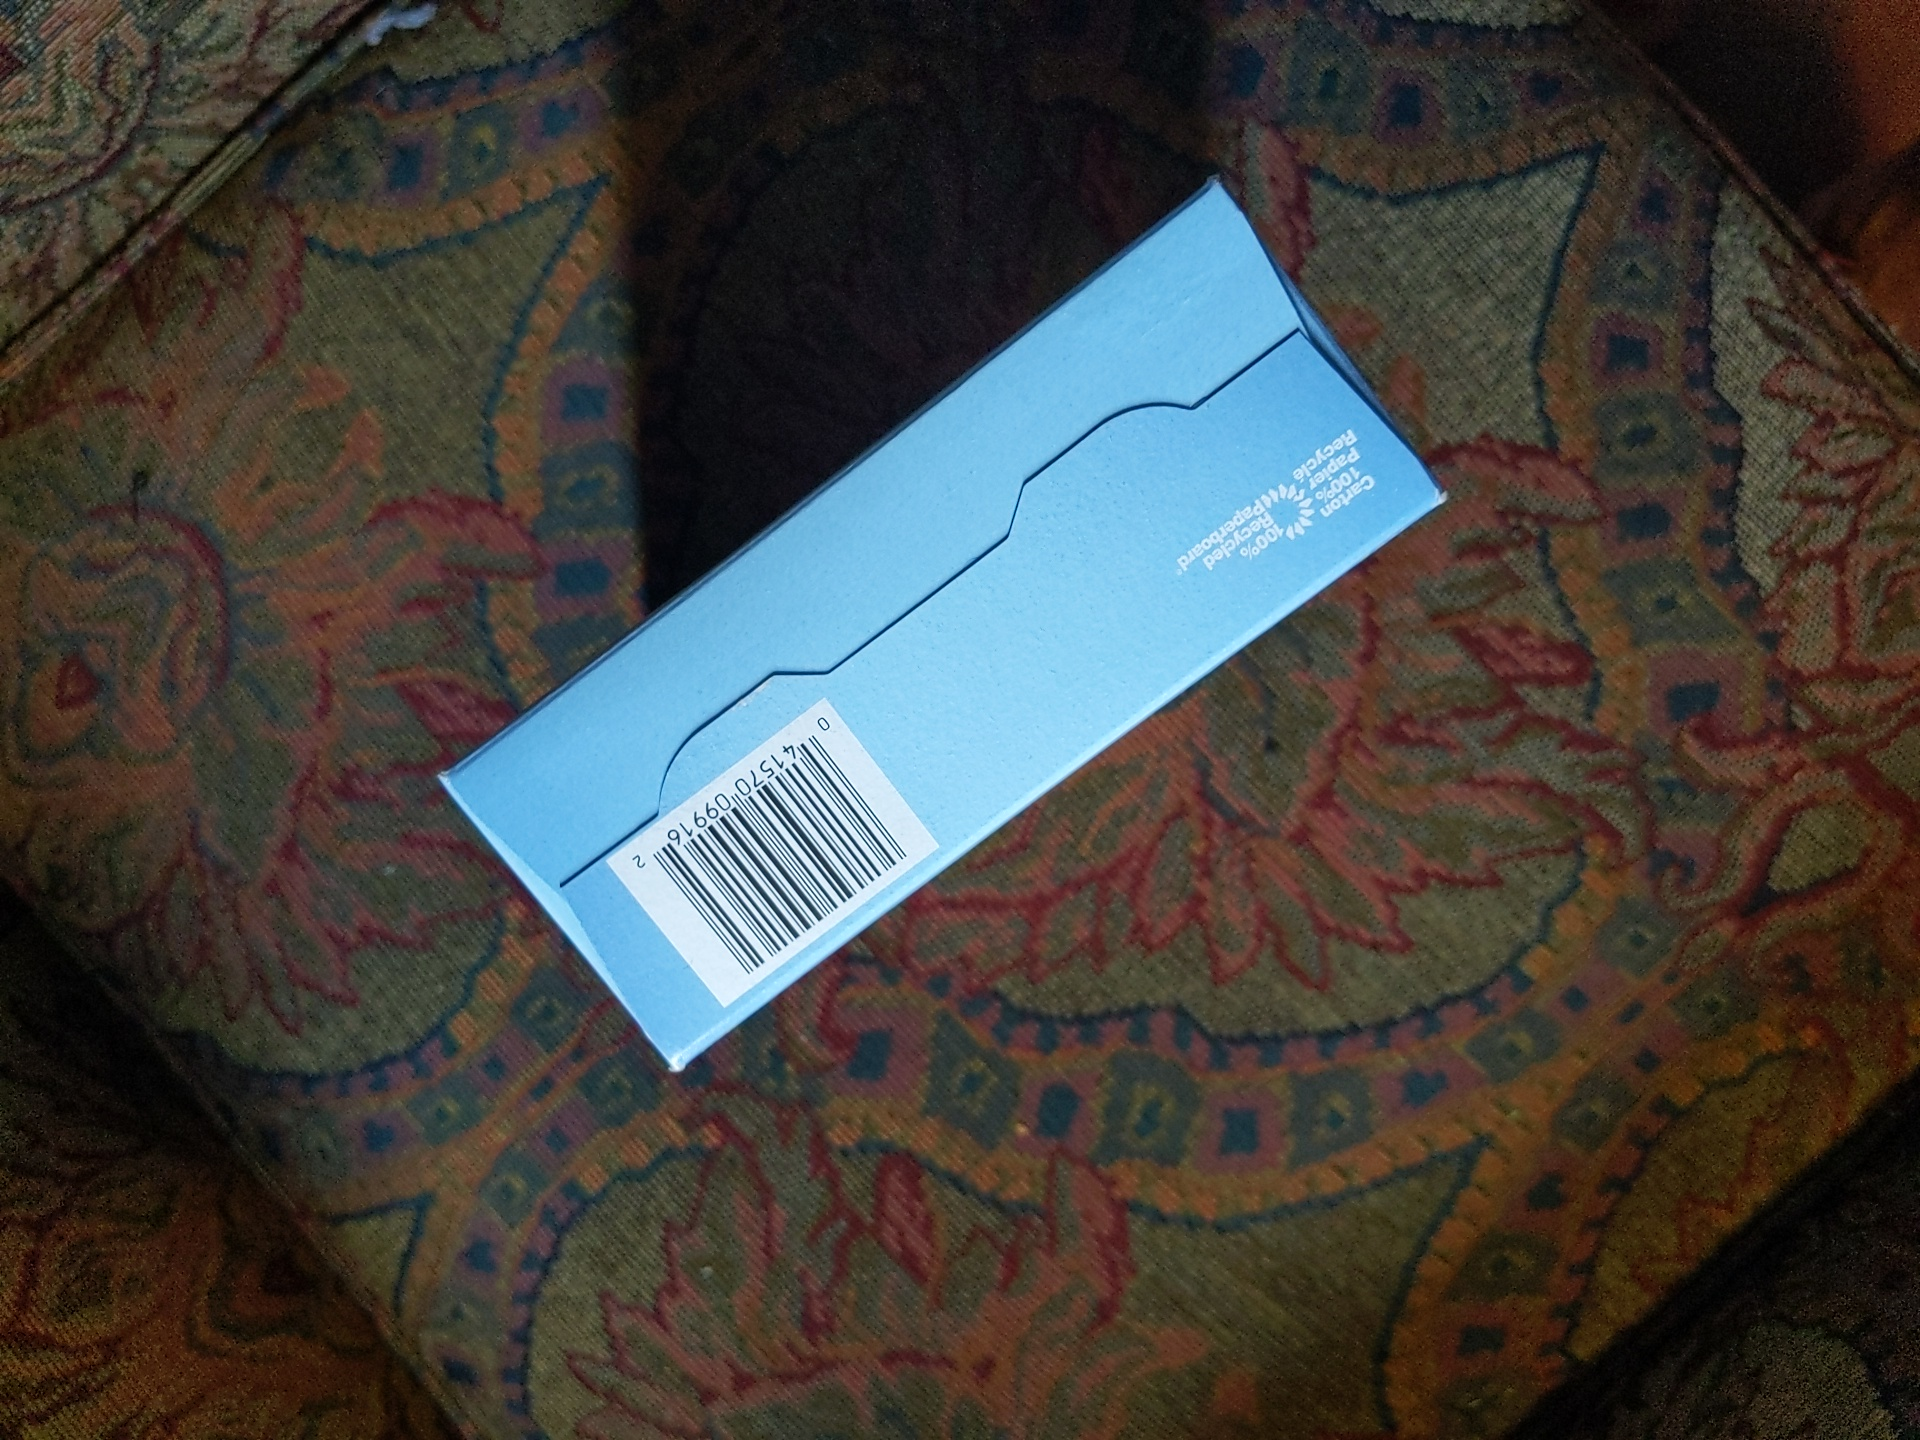blue_diamond_nut_thins_almond_seasalt: (543, 293, 1339, 977)
